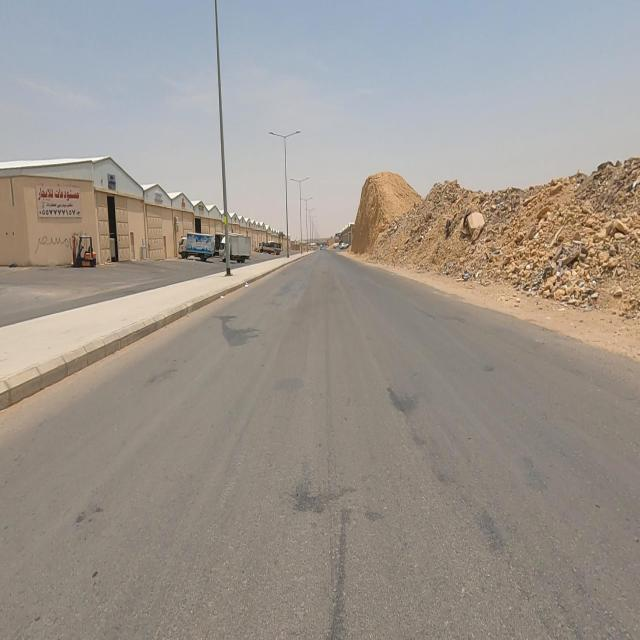Graffiti: (35, 236, 71, 255), (73, 232, 88, 237)
